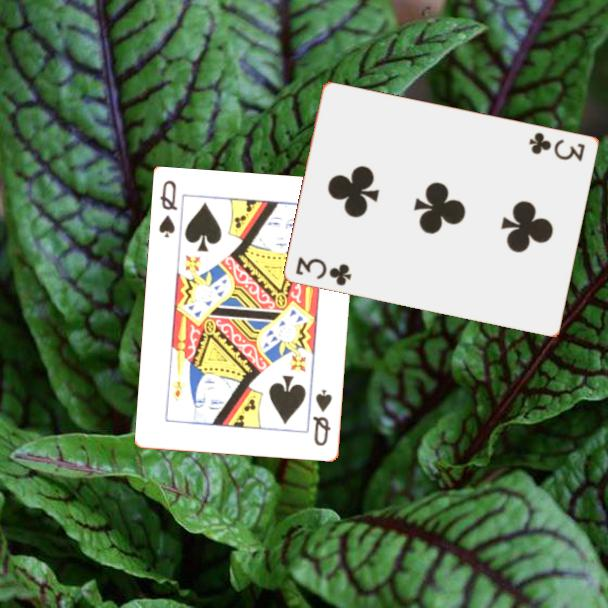c03: (526, 128, 588, 164), (292, 253, 355, 288)
s12: (156, 177, 181, 241), (310, 386, 335, 449)
